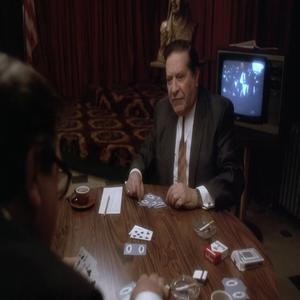cigarette: (173, 282, 198, 293)
